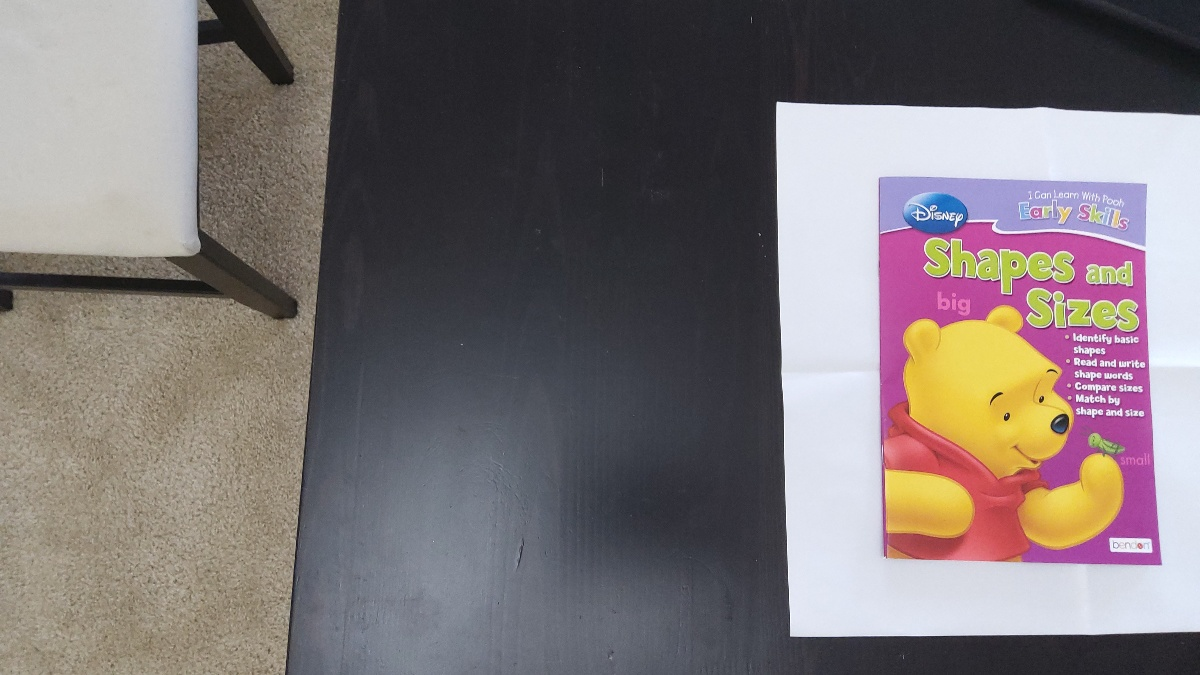book: (881, 179, 1156, 565)
